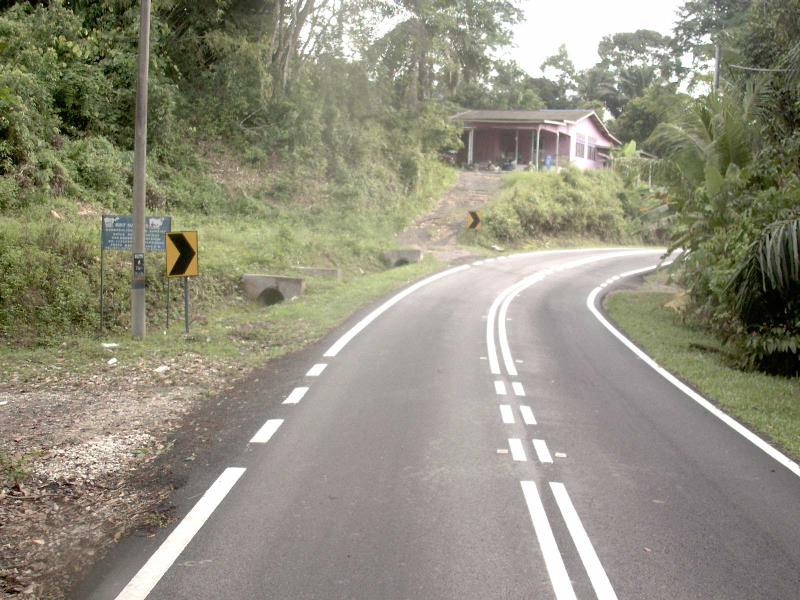traffic_sign: (158, 223, 207, 288)
